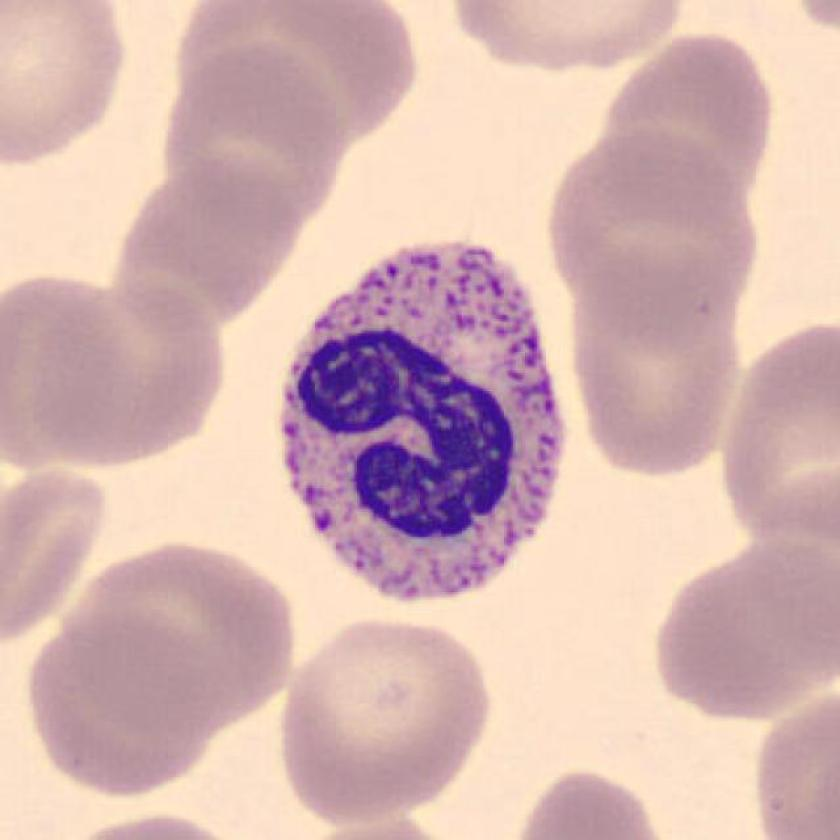neutrophil: (286, 245, 561, 598)
